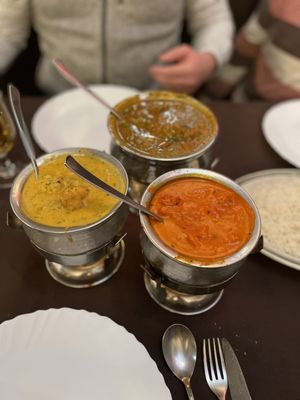pizza: (137, 167, 263, 315), (9, 147, 132, 288)
salad: (63, 154, 166, 225), (52, 58, 125, 122), (161, 323, 197, 400)
sandwich: (218, 337, 253, 400)
sushi: (135, 167, 263, 315), (9, 147, 133, 288), (106, 90, 220, 183)
